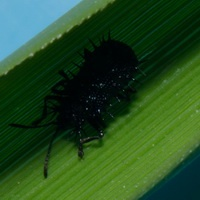insect: (9, 31, 141, 177)
